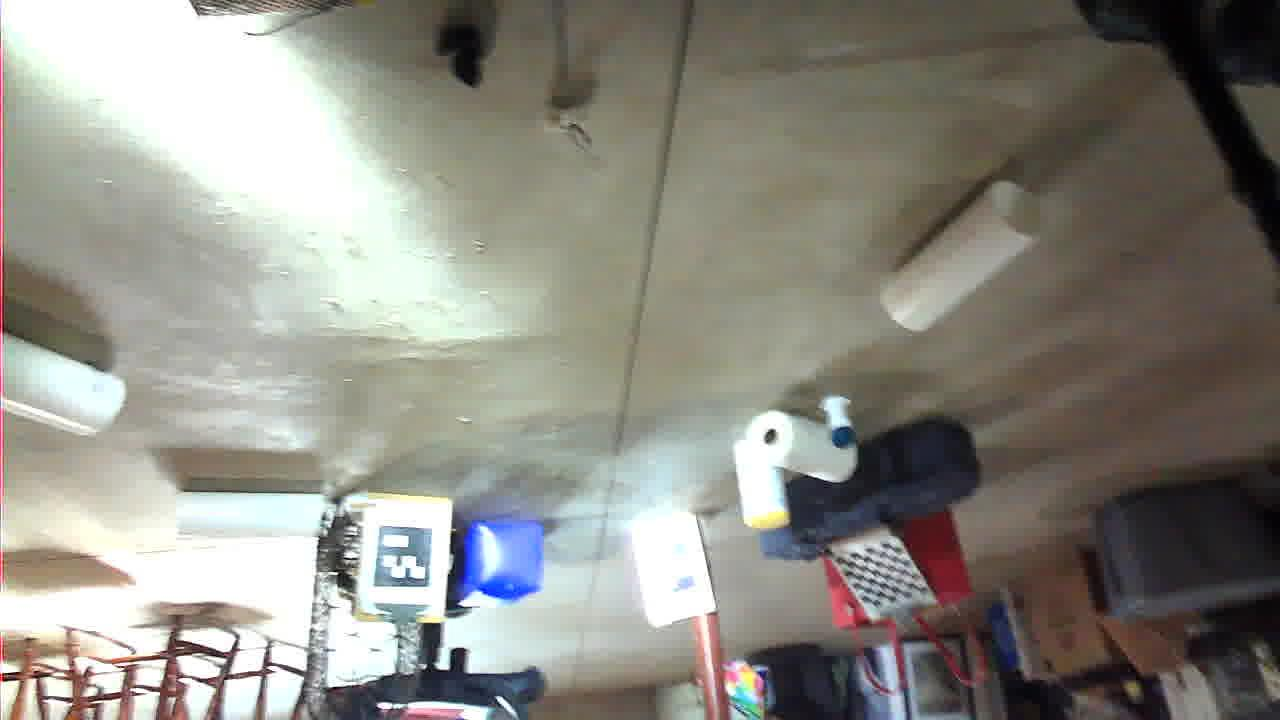coral: (238, 389, 403, 539), (1153, 283, 1280, 381), (956, 182, 1099, 230)
